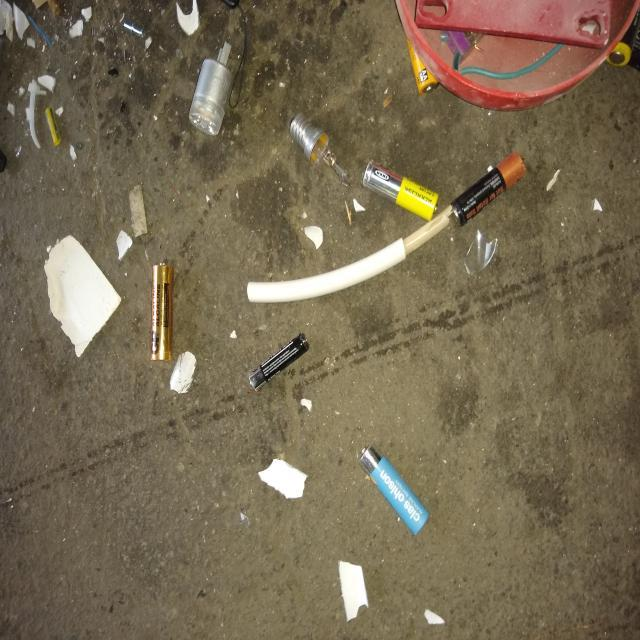AA: (455, 145, 530, 248), (363, 150, 443, 223)
AAA: (357, 445, 429, 535), (144, 255, 184, 367)
